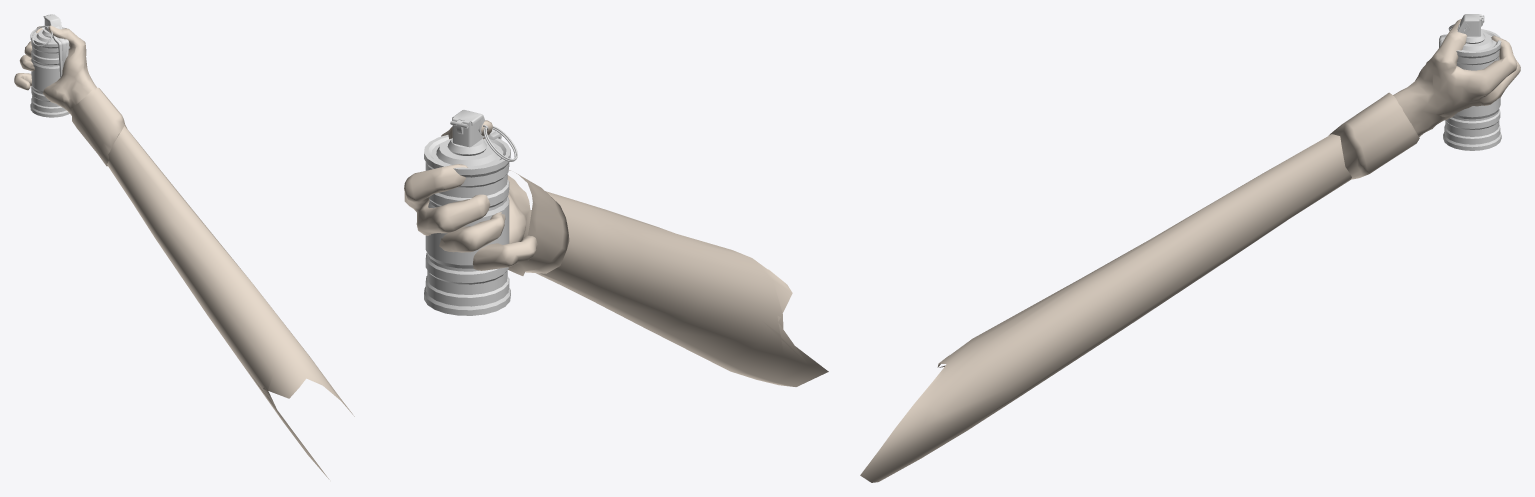
File: granada_lp.glb
3 views of the same model, side by side, from view 1: azimuth 30°, elevation 25°; view 2: azimuth 150°, elevation 25°; view 3: azimuth 270°, elevation 25° (orthographic). The views are drawn at different scales.
Visible parts, largest first — view 1: char, body; view 2: char, body; view 3: char, body.
Part boxes in pixels (left/top/right/bottom): char: left=14, top=25, right=354, bottom=479; body: left=30, top=14, right=69, bottom=117; char: left=404, top=120, right=828, bottom=386; body: left=424, top=110, right=517, bottom=315; char: left=860, top=19, right=1520, bottom=482; body: left=1439, top=14, right=1501, bottom=150.
Size of the model in its own units: 0.239 by 0.555 by 0.791.
